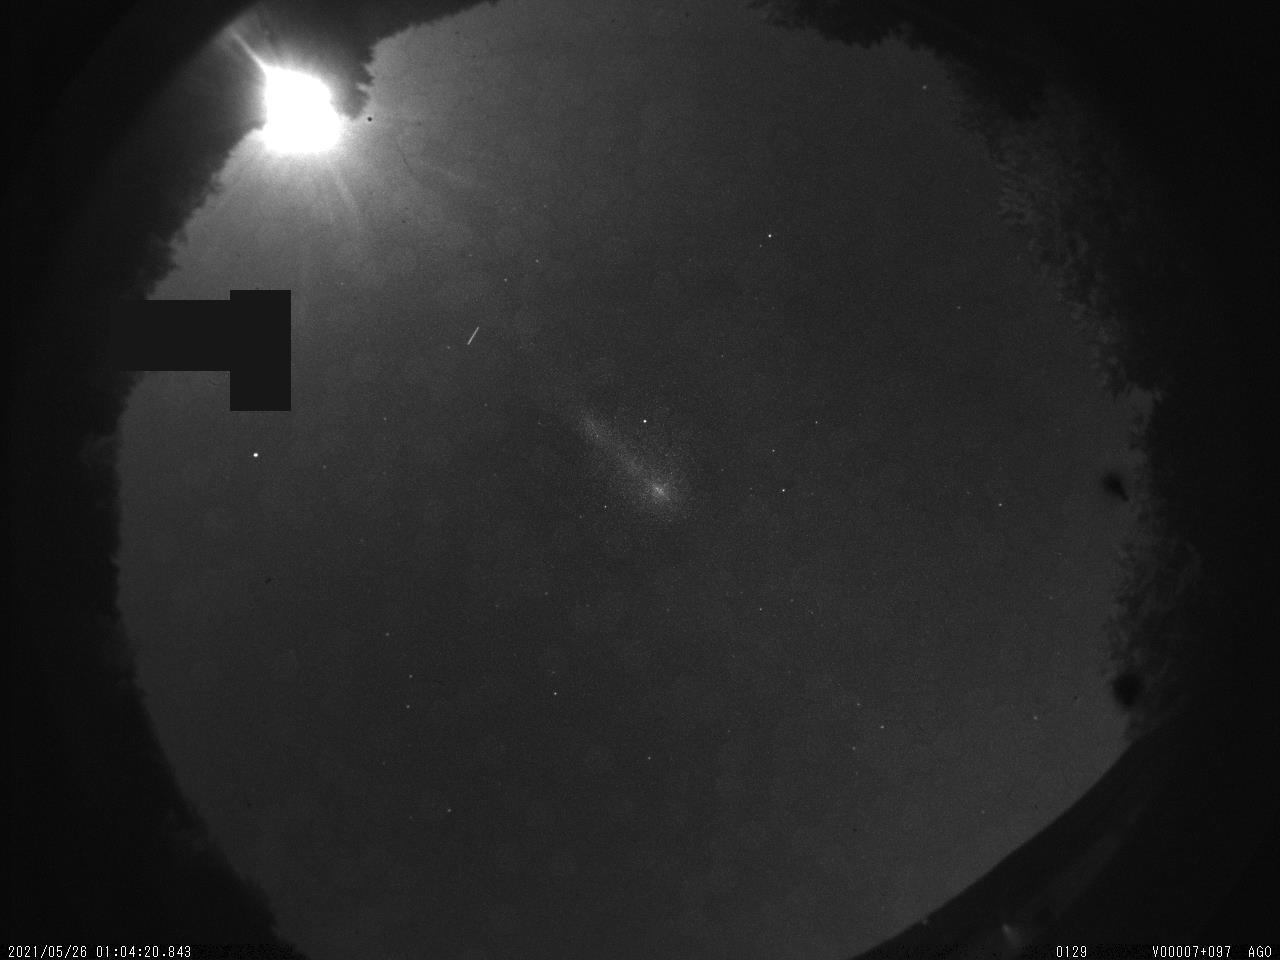satelite: (461, 319, 484, 351)
